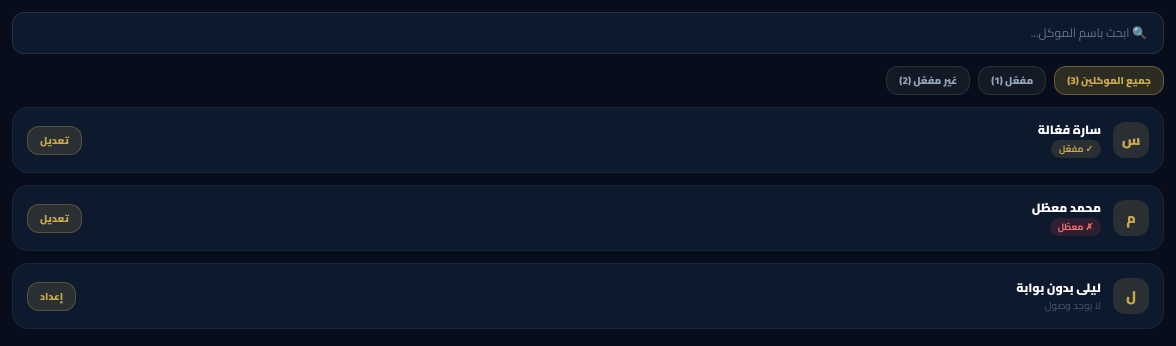
Test: PortalSection — تابات الحالة (الكل / مفعّل / غير مفعّل) › الضغط على تاب "مفعّل" بيسيب العميل الشغال بس
Step 1. Click the button with test id "admin-portal-tab-active" → (1012, 80), box [978,66,1046,95]
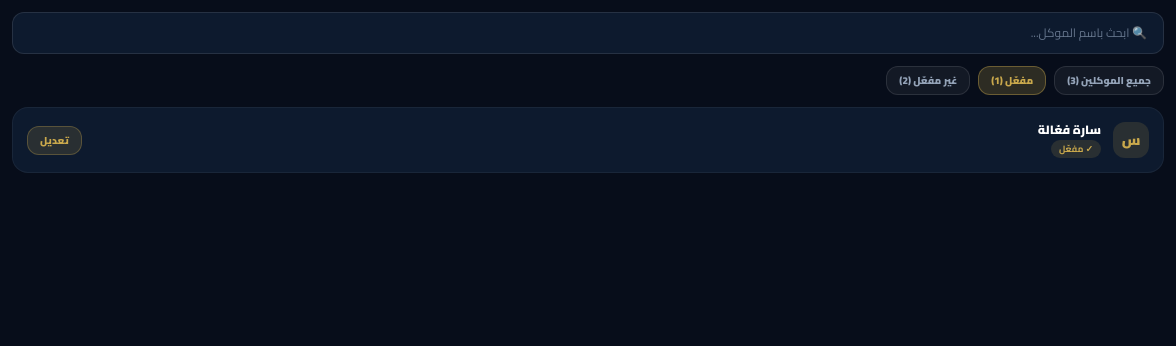
Expected: the element with test id "admin-portal-card" shows "سارة فعّالة", [1038,118,1101,141]
Expected: the number of elements with test id "admin-portal-card" is 1, [12,107,1164,173]
